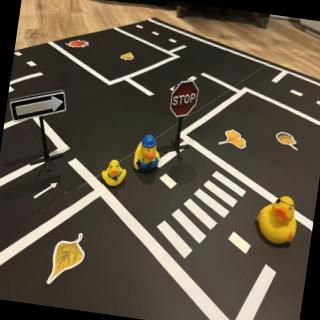duck_regular: (101, 156, 130, 191)
duck_specialty: (253, 190, 304, 251), (131, 131, 164, 179)
road_crosswalk: (147, 158, 255, 274)
road_oneway: (31, 176, 61, 205), (1, 209, 4, 234)
sign_oneway_right: (6, 80, 70, 131)
